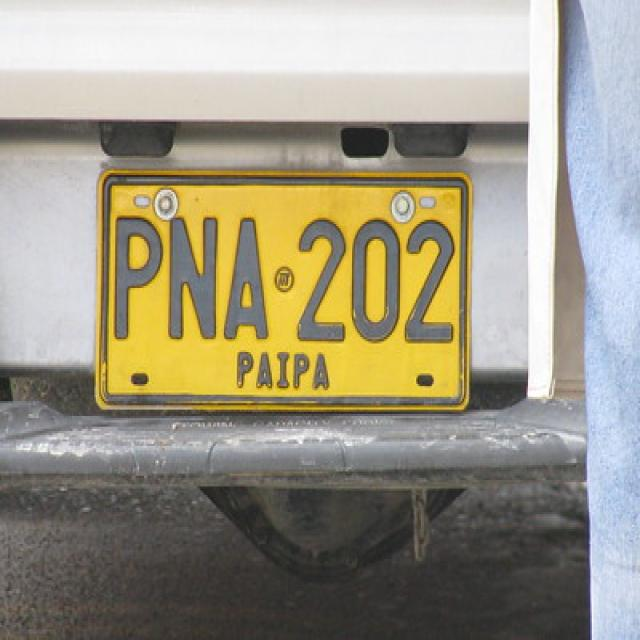placa_carro: (82, 146, 494, 454)
